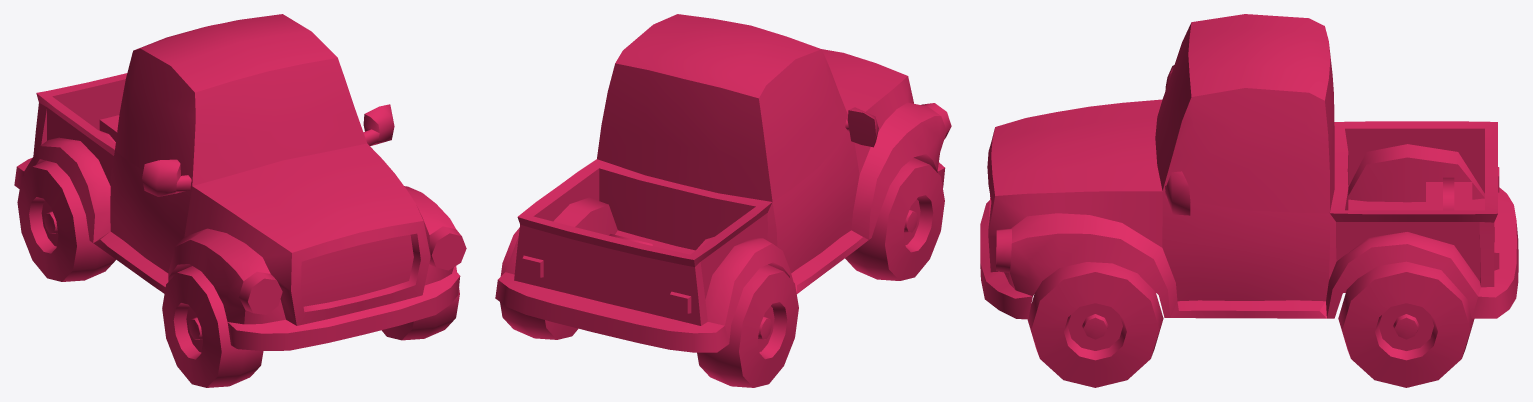
Rendered from Vehicle_Land_Truck.fbx.
3 views of the same model, side by side, from view 1: azimuth 30°, elevation 25°; view 2: azimuth 150°, elevation 25°; view 3: azimuth 270°, elevation 25° (orthographic). The views are drawn at different scales.
Parts seen in each view (by area): view 1: Vehicle_Land_Truck; view 2: Vehicle_Land_Truck; view 3: Vehicle_Land_Truck.
Part boxes in pixels (bbox=[...]): Vehicle_Land_Truck: bbox=[14, 14, 466, 387]; Vehicle_Land_Truck: bbox=[495, 14, 951, 387]; Vehicle_Land_Truck: bbox=[980, 14, 1518, 387].
Size of the model in its own units: 57.96 by 58.81 by 101.
